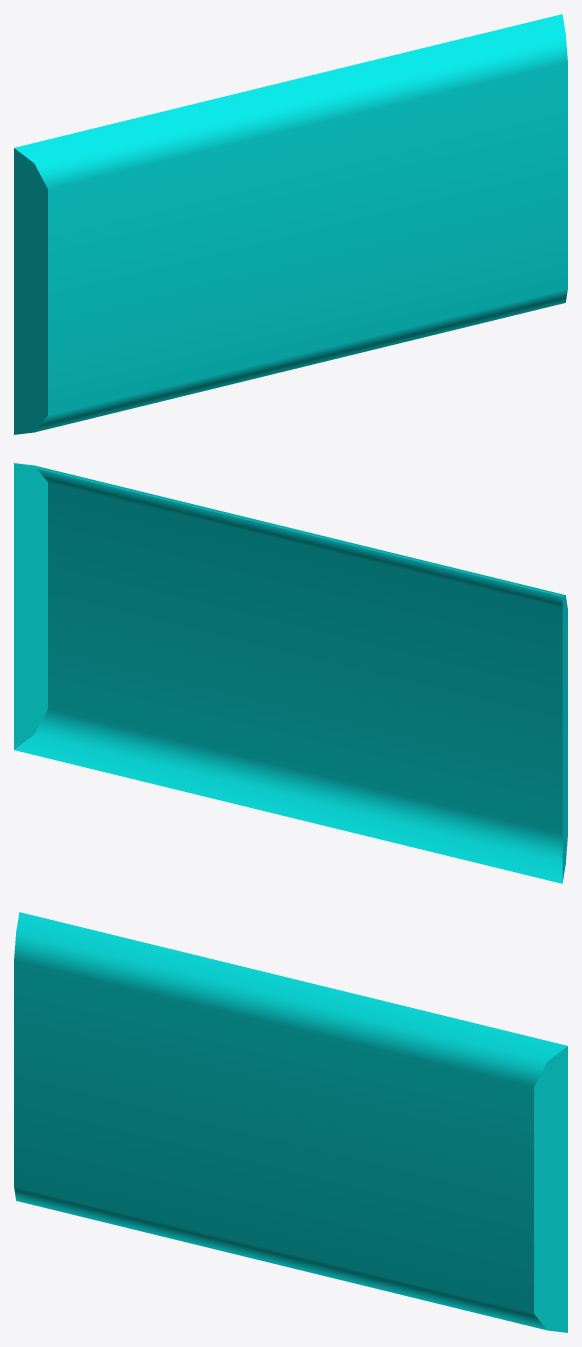
File: classroomSocket1.fbx
3 renders of one model, top to bottom at view 1: azimuth 30°, elevation 25°; view 2: azimuth 150°, elevation 25°; view 3: azimuth 330°, elevation 25°, orthographic.
Parts seen in each view (by area): view 1: classroom_socket1; view 2: classroom_socket1; view 3: classroom_socket1.
Boxes of the visible parts, bbox=[...] form: classroom_socket1: bbox=[14, 14, 567, 434]; classroom_socket1: bbox=[14, 463, 567, 883]; classroom_socket1: bbox=[14, 912, 567, 1332].
Size of the model in its own units: 16 by 8 by 1.
